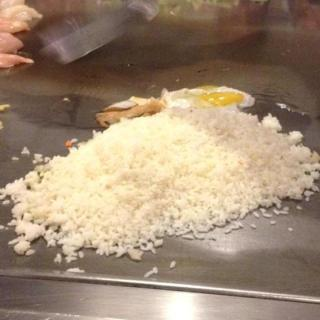Nasi: (1, 105, 320, 263)
